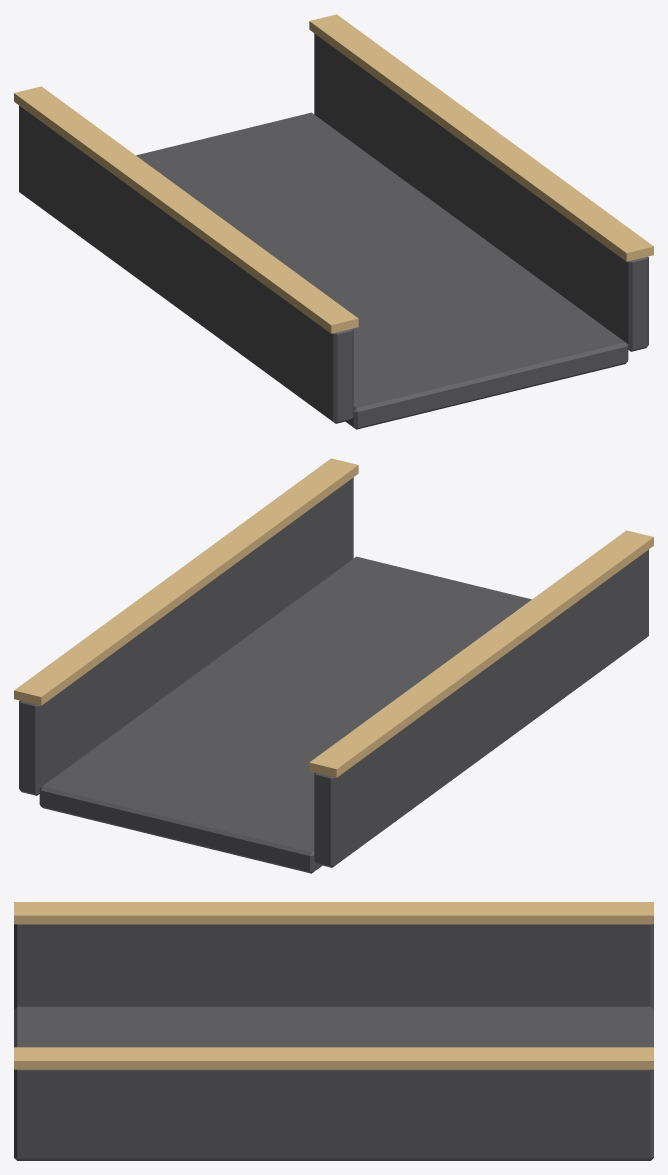
The model's file is Chute.fbx.
The picture shows the model from 3 angles, top to bottom: view 1: azimuth 30°, elevation 25°; view 2: azimuth 150°, elevation 25°; view 3: azimuth 270°, elevation 25°; orthographic projection.
Parts seen in each view (by area): view 1: Chute; view 2: Chute; view 3: Chute.
Part boxes in pixels (x1=…): Chute: x1=14, y1=14, x2=653, y2=429; Chute: x1=14, y1=458, x2=653, y2=873; Chute: x1=14, y1=902, x2=653, y2=1160.
Bounding box in the file's own units: 2.35 × 0.78 × 4.
